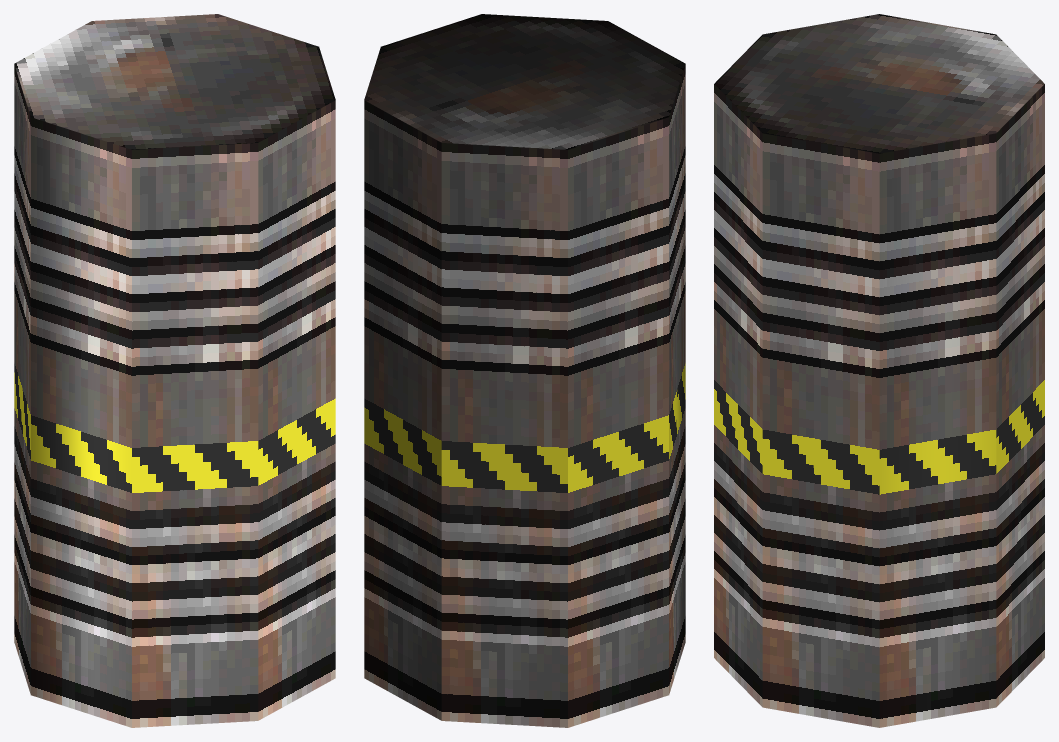
The model's file is Poil_drum1Z.obj.
3 renders of one model, left to right at view 1: azimuth 30°, elevation 25°; view 2: azimuth 150°, elevation 25°; view 3: azimuth 270°, elevation 25°, orthographic.
Size of the model in its own units: 690 by 1322 by 690.
Materials: 2 (2 with a texture image).
